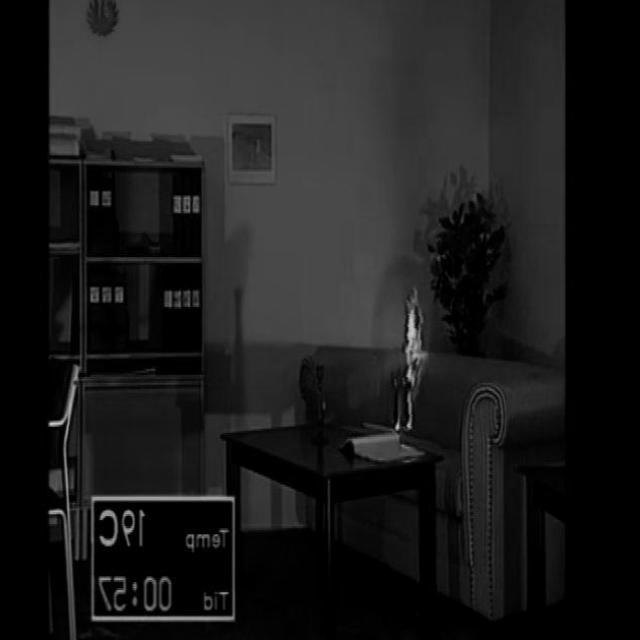smoke: (388, 284, 429, 433)
